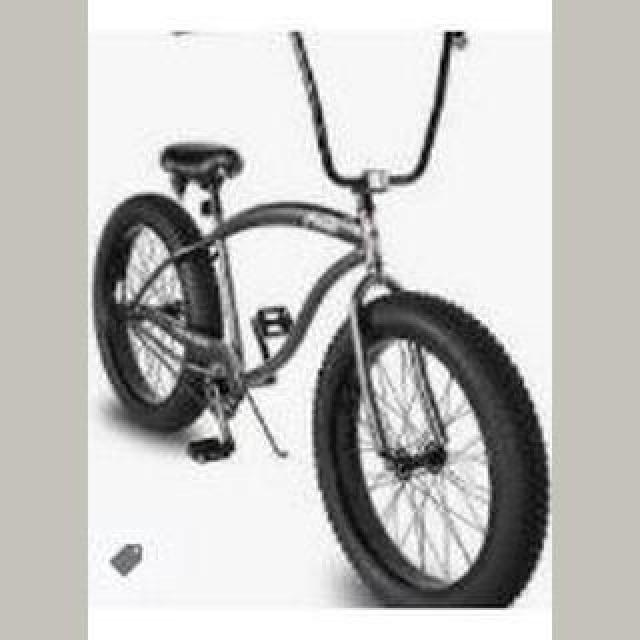Person: (94, 22, 552, 608)
